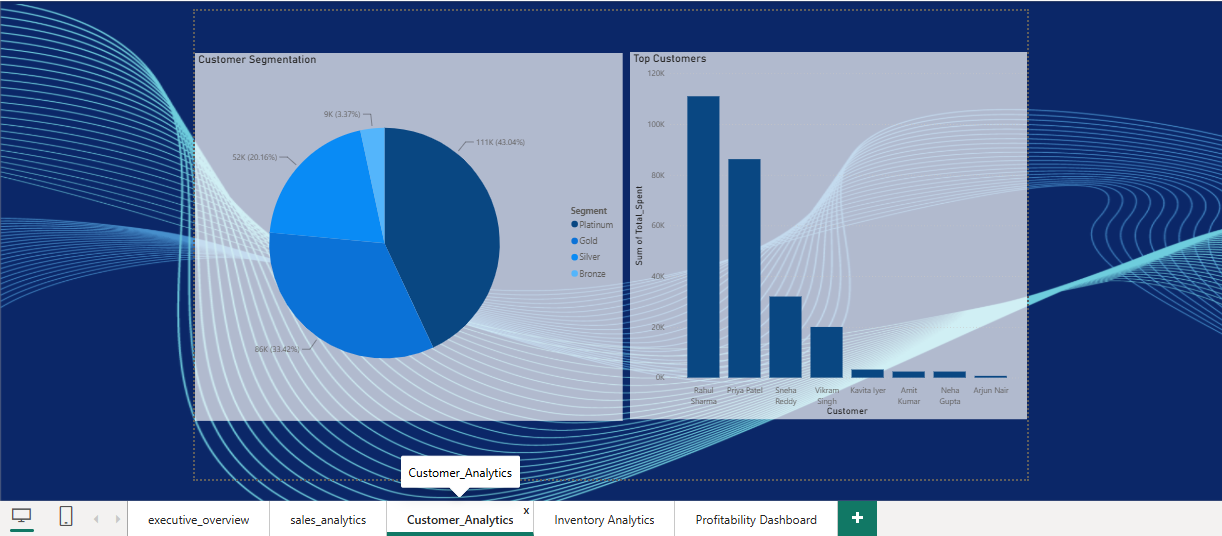

Layout of this report page (visuals, bound fields, positions):
{"tool":"powerbi","page":{"name":"Customer_Analytics","canvas":[1280,720],"ordinal":2},"visuals":[{"type":"pieChart","title":"Customer Segmentation","fields":{"Category":["customer_segmentation.Segment"],"Y":["Sum(customer_segmentation.Total_Spent)"]},"box":[0,64,658,566],"z":0},{"type":"clusteredColumnChart","title":"Top Customers","fields":{"Category":["customer_segmentation.Customer"],"Y":["Sum(customer_segmentation.Total_Spent)"]},"box":[669,63,611,565],"z":1000}]}

Visuals, with their boxes on the page's 1280x720 design canvas (x1, y1, x2, y2). These are canvas units, not pixel positions in the 1222x536 screenshot, which may show the page scaled, cropped or inside an application window:
"Customer Segmentation" pieChart: region(0, 64, 658, 630)
"Top Customers" clusteredColumnChart: region(669, 63, 1280, 628)
